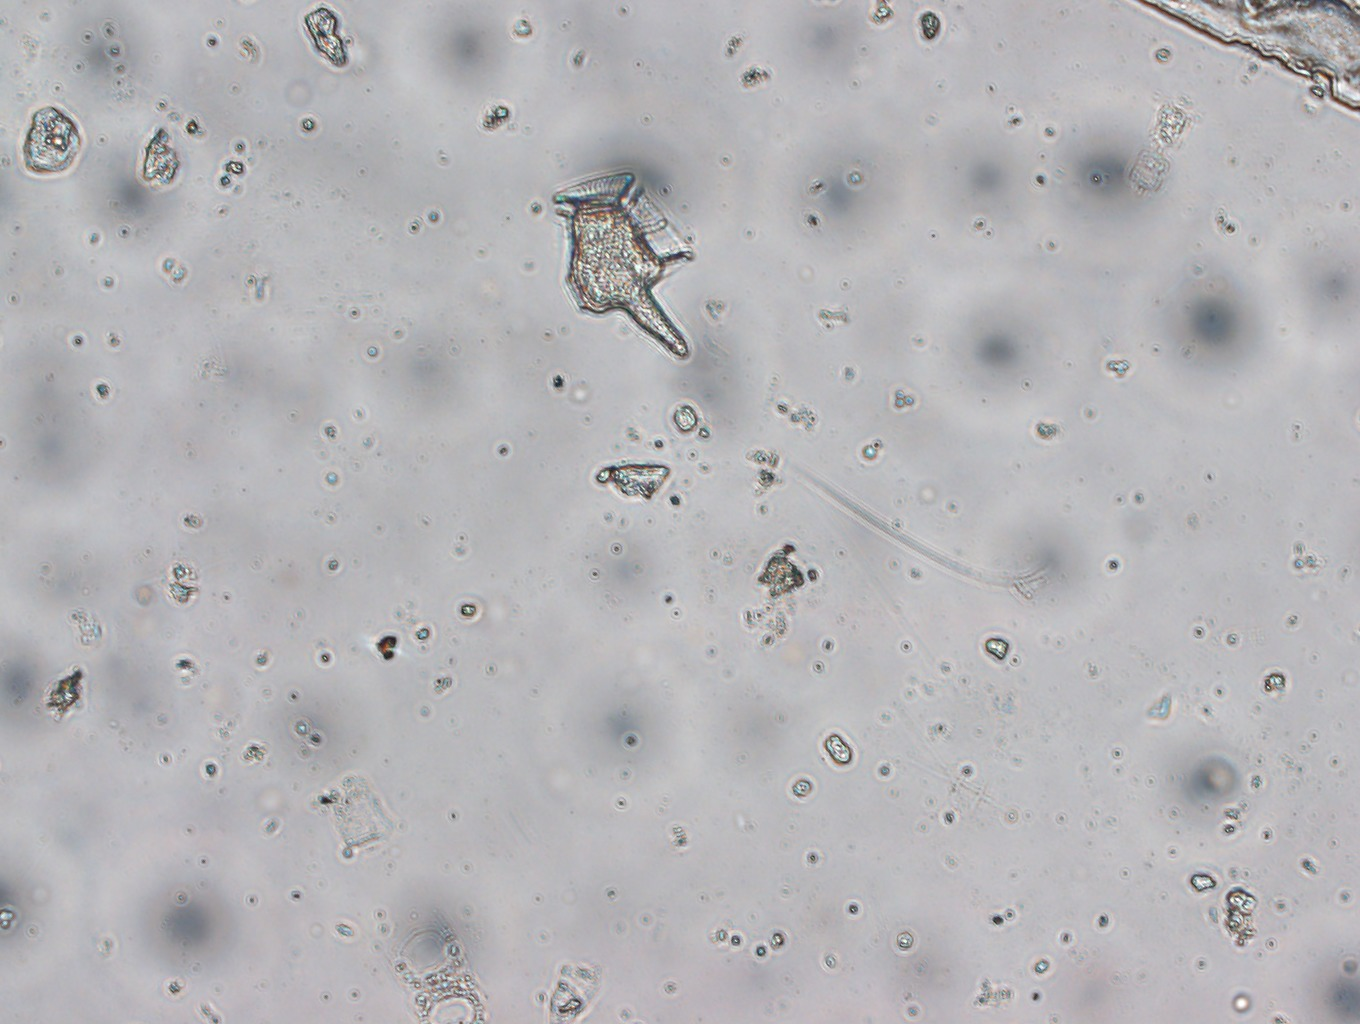dinophysis caudata: (538, 165, 702, 365)
